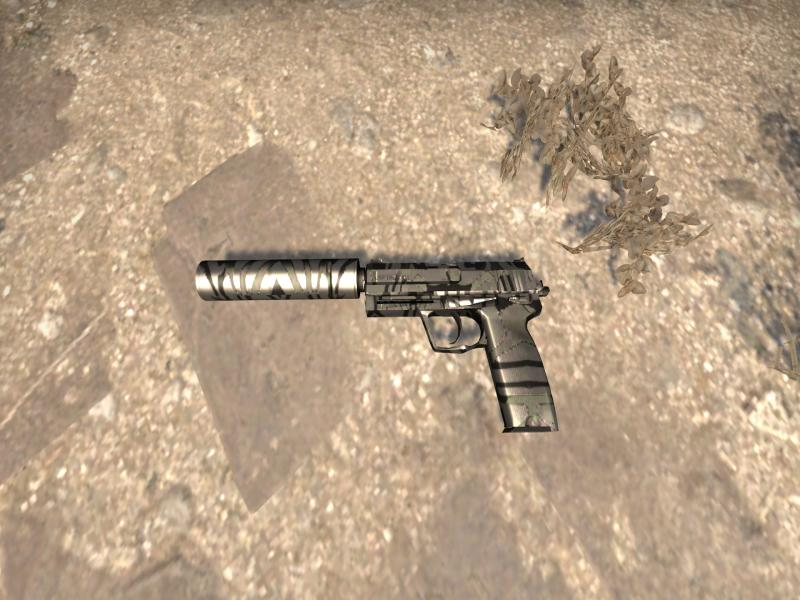USP: (195, 258, 559, 432)
